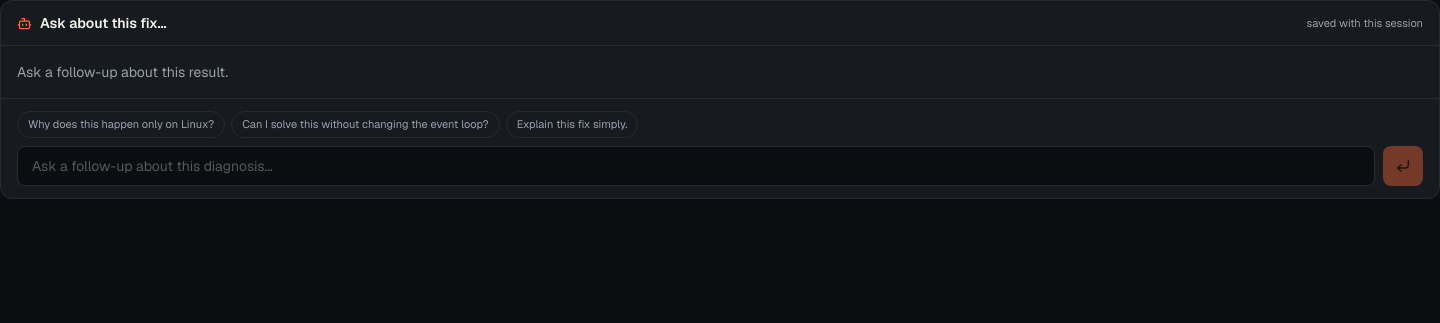
Test: debug interactions › sends a follow-up and renders its grounded source
Type "How should I call it?" into the field named "Follow-up question" at (696, 166), box [17,146,1375,186]
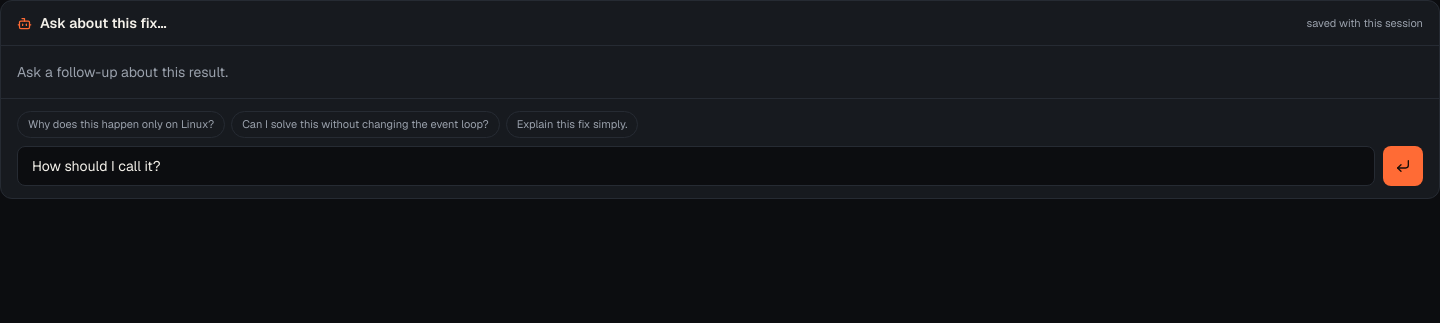
Click the button named "Send follow-up" at (1403, 166), box [1383,146,1423,186]
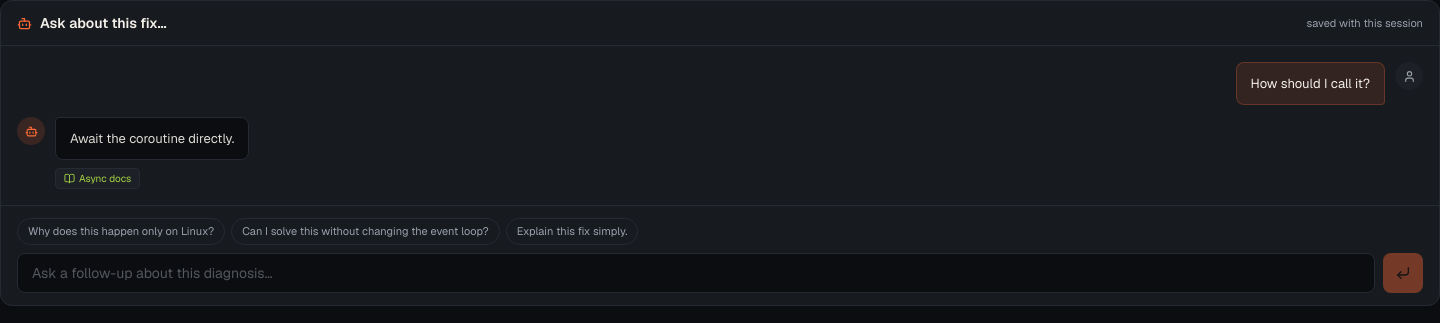
Now the text "Await the coroutine directly." is shown, box [70,128,234,149]
Now the text "Async docs" is shown, box [55,168,140,189]
